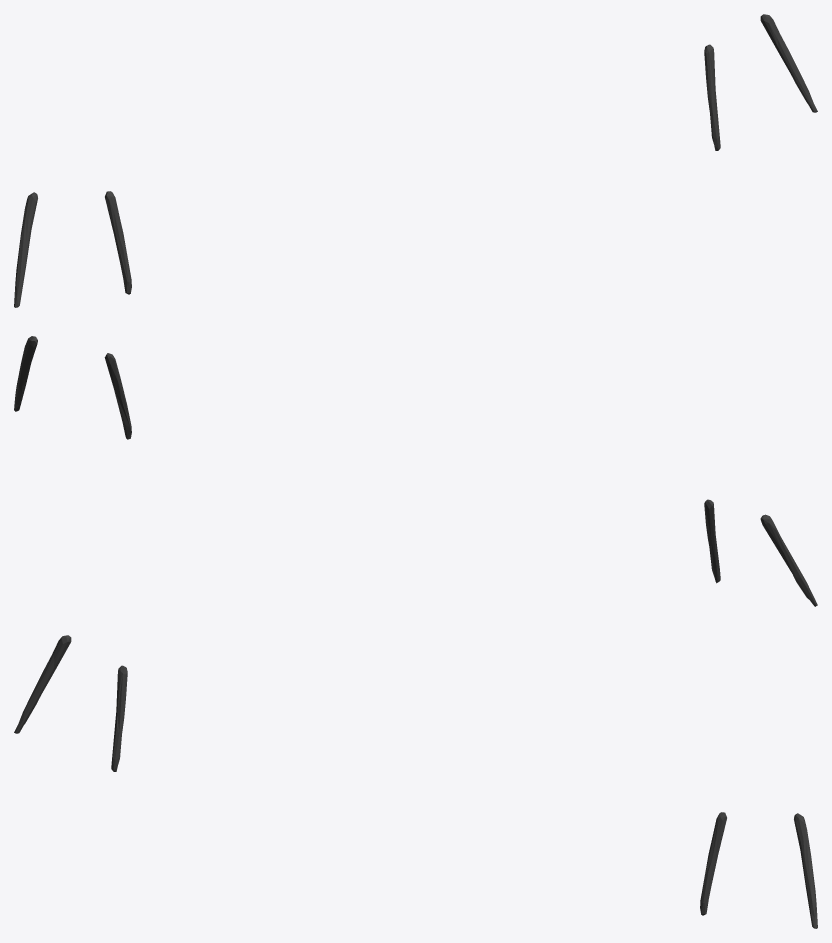
Rendered from lig_abaxial_plantar_HL.glb.
3 views of the same model, one above another, from view 1: azimuth 30°, elevation 25°; view 2: azimuth 150°, elevation 25°; view 3: azimuth 330°, elevation 25° (orthographic).
Parts seen in each view (by area): view 1: lig_abaxial_plantar_HL; view 2: lig_abaxial_plantar_HL; view 3: lig_abaxial_plantar_HL.
Boxes of the visible parts, box(x1,y1,x2,y2) form: lig_abaxial_plantar_HL: box(14, 14, 817, 307); lig_abaxial_plantar_HL: box(14, 336, 817, 606); lig_abaxial_plantar_HL: box(14, 635, 817, 928).
Size of the model in its own units: 0.00574 by 0.000699 by 0.000337.
Materials: 1 (1 with a texture image).
